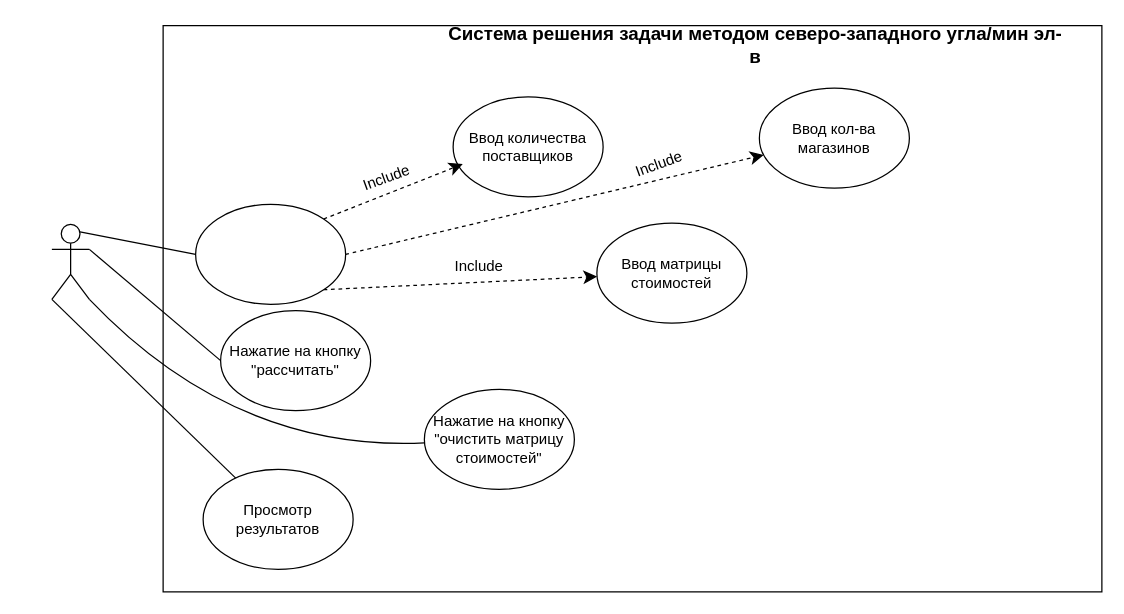
Some shapes in this 1124 by 614 pixel diagram are drawn without their labels. The shapes that lost their labels are listed below. From the top down, each one's centre as x and y in pixels, then its label:
At (x=70, y=261): "Пользователь".
At (x=270, y=253): "Ввод данных".
